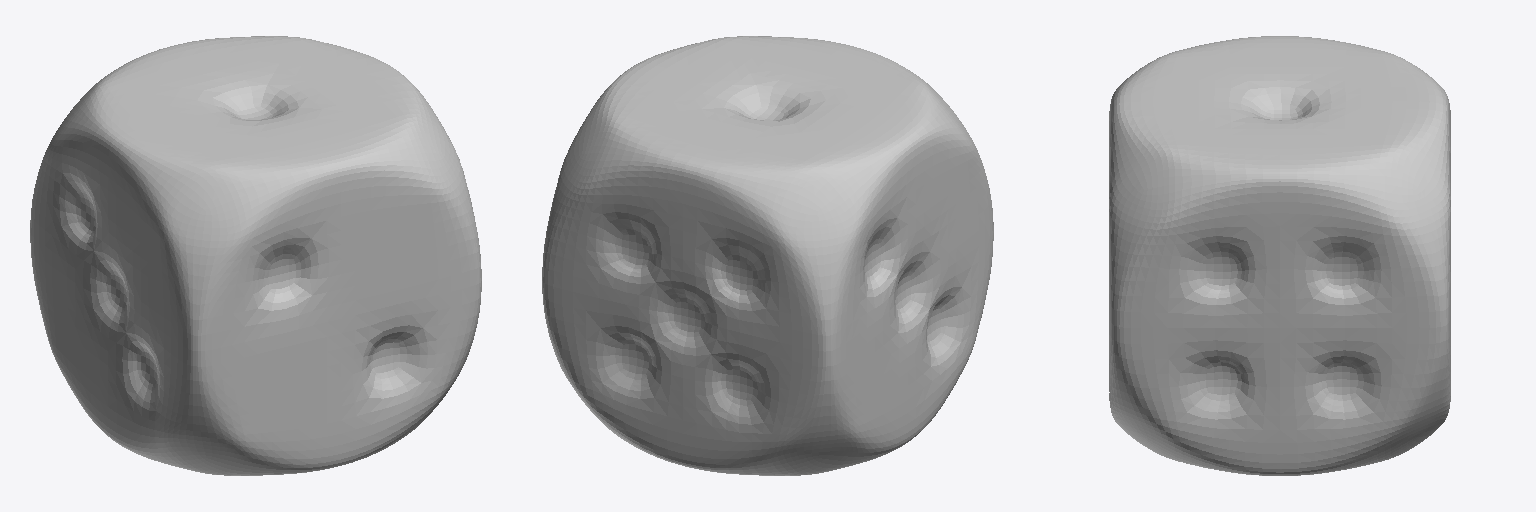
Rendered from diceHR.obj.
3 views of the same model, side by side, from view 1: azimuth 30°, elevation 25°; view 2: azimuth 150°, elevation 25°; view 3: azimuth 270°, elevation 25° (orthographic).
Bounding box in the file's own units: 2.1 × 2.1 × 2.1.